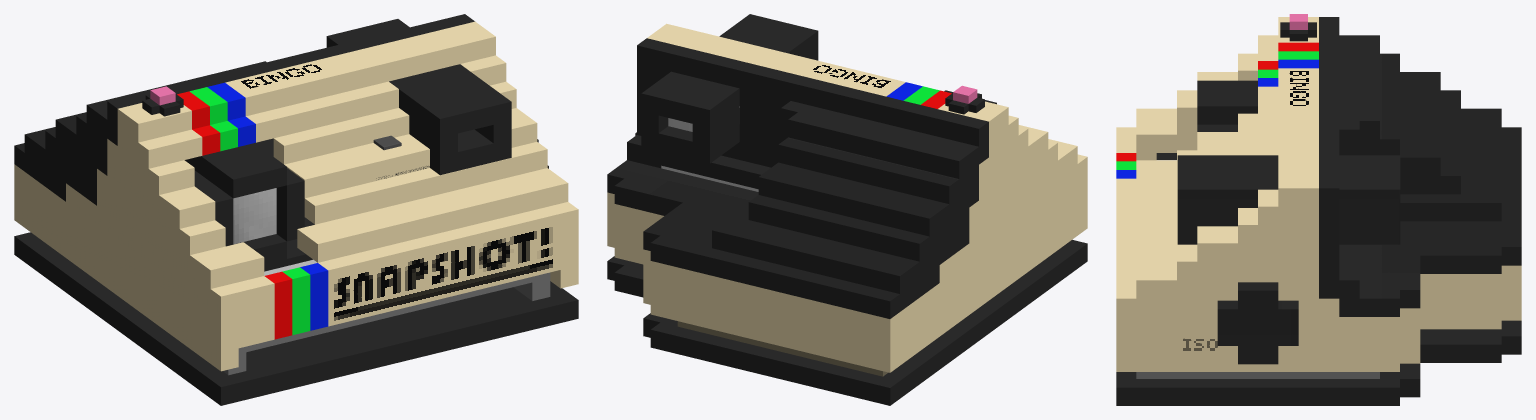
The model's file is Breakable_BingoSnapshot.fbx.
3 renders of one model, left to right at view 1: azimuth 30°, elevation 25°; view 2: azimuth 150°, elevation 25°; view 3: azimuth 270°, elevation 25°, orthographic. The views are drawn at different scales.
Parts seen in each view (by area): view 1: BingoSnapshot_Break_A, BingoSnapshot_Break_F, BingoSnapshot_Break_B, BingoSnapshot_Break_G, BingoSnapshot_Break_E, BingoSnapshot_Break_D; view 2: BingoSnapshot_Break_G, BingoSnapshot_Break_A, BingoSnapshot_Break_F, BingoSnapshot_Break_E, BingoSnapshot_Break_B, BingoSnapshot_Break_D; view 3: BingoSnapshot_Break_B, BingoSnapshot_Break_G, BingoSnapshot_Break_A, BingoSnapshot_Break_F, BingoSnapshot_Break_E, BingoSnapshot_Break_C, BingoSnapshot_Break_D.
Boxes of the visible parts, <box> form: BingoSnapshot_Break_A: <box>14,26,467,371</box>; BingoSnapshot_Break_F: <box>14,135,578,405</box>; BingoSnapshot_Break_B: <box>356,21,578,313</box>; BingoSnapshot_Break_G: <box>14,14,474,205</box>; BingoSnapshot_Break_E: <box>326,19,511,175</box>; BingoSnapshot_Break_D: <box>142,86,183,116</box>; BingoSnapshot_Break_G: <box>607,38,988,318</box>; BingoSnapshot_Break_A: <box>650,35,1087,372</box>; BingoSnapshot_Break_F: <box>607,90,1087,405</box>; BingoSnapshot_Break_E: <box>641,14,818,163</box>; BingoSnapshot_Break_B: <box>607,23,734,304</box>; BingoSnapshot_Break_D: <box>945,85,984,114</box>; BingoSnapshot_Break_B: <box>1116,154,1501,371</box>; BingoSnapshot_Break_G: <box>1319,17,1521,316</box>; BingoSnapshot_Break_A: <box>1116,17,1521,320</box>; BingoSnapshot_Break_F: <box>1116,80,1521,405</box>; BingoSnapshot_Break_E: <box>1177,155,1400,244</box>; BingoSnapshot_Break_C: <box>1217,282,1298,364</box>; BingoSnapshot_Break_D: <box>1280,14,1316,41</box>.
Bounding box in the file's own units: 2.12 × 1.27 × 2.
1 material, 1 textured.
